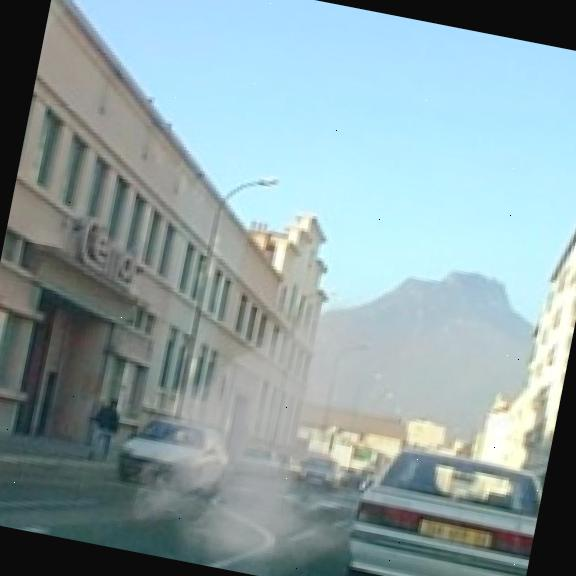smoke: (108, 228, 537, 576)
